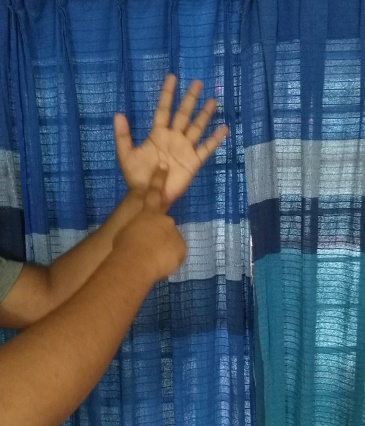oo: (112, 73, 230, 276)
